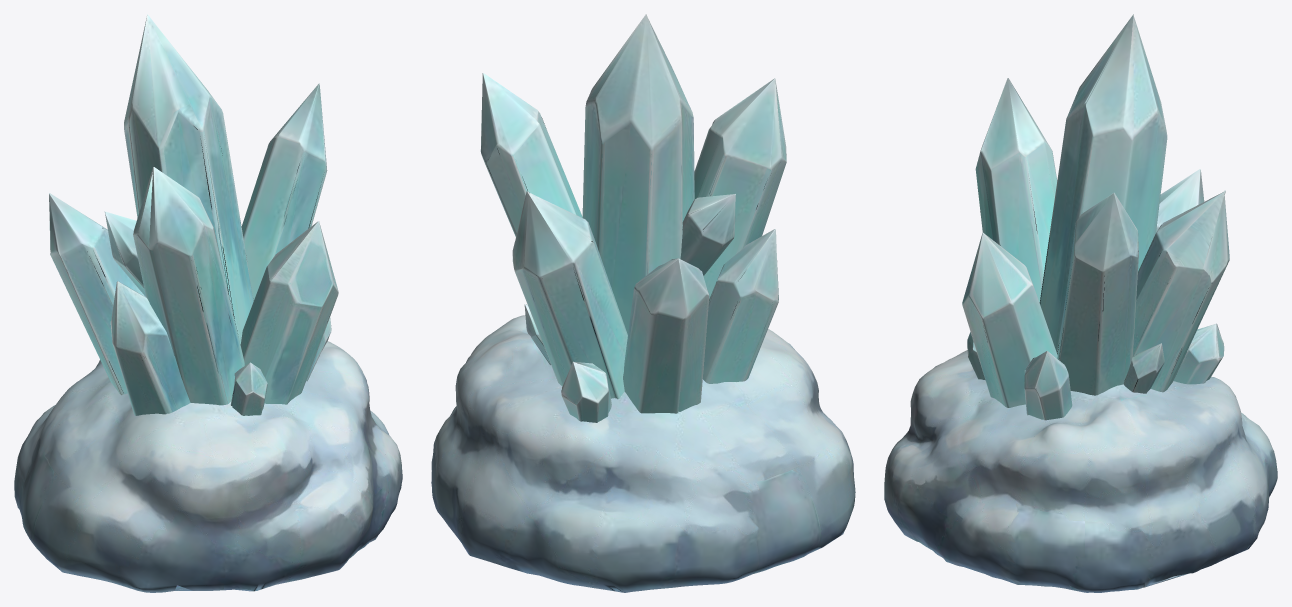
The model's file is ice_crystals.glb.
The picture shows the model from 3 angles, left to right: view 1: azimuth 30°, elevation 25°; view 2: azimuth 150°, elevation 25°; view 3: azimuth 270°, elevation 25°; orthographic projection. The views are drawn at different scales.
Visible parts, largest first — view 1: geometry_0; view 2: geometry_0; view 3: geometry_0.
Boxes of the visible parts, left/top/right/bottom form: geometry_0: left=14, top=14, right=402, bottom=592; geometry_0: left=431, top=14, right=855, bottom=592; geometry_0: left=884, top=14, right=1277, bottom=592.
Size of the model in its own units: 0.7036 by 0.9536 by 0.7021.
Materials: 1 (1 with a texture image).
